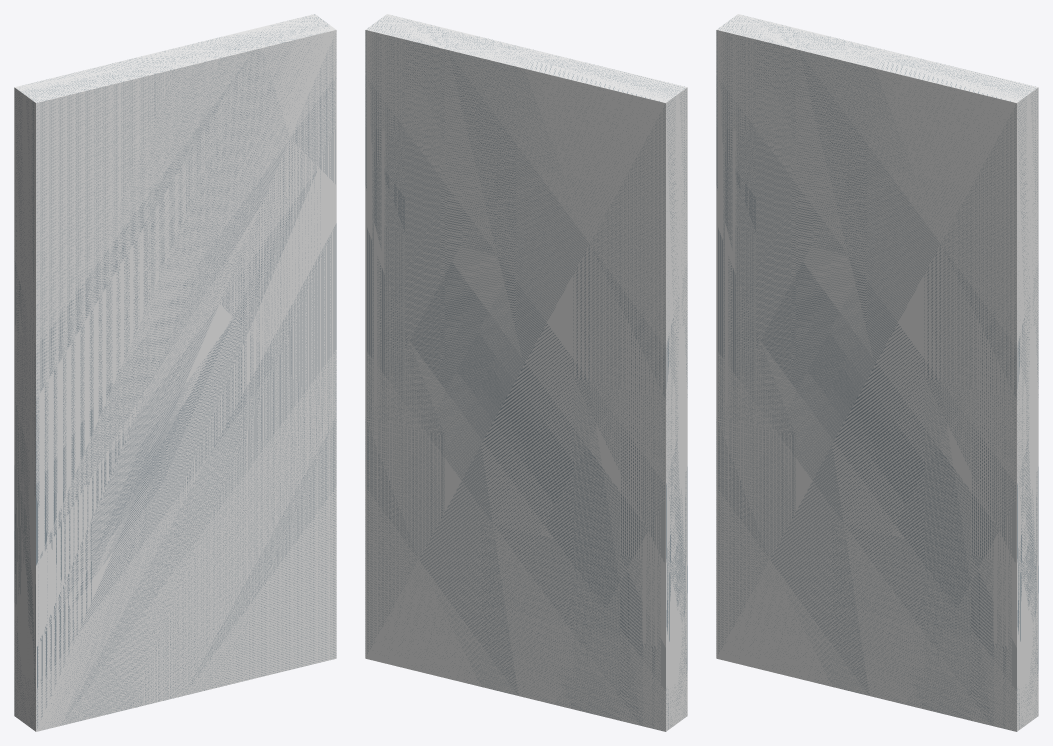
Rendered from REG_DOR.fbx.
The picture shows the model from 3 angles, left to right: view 1: azimuth 30°, elevation 25°; view 2: azimuth 150°, elevation 25°; view 3: azimuth 330°, elevation 25°; orthographic projection.
Parts seen in each view (by area): view 1: Model; view 2: Model; view 3: Model.
Part boxes in pixels (x1,y1,x2,y2): Model: (14,14,336,731); Model: (365,14,687,731); Model: (716,14,1038,731).
Bounding box in the file's own units: 4 × 8 × 0.5.
